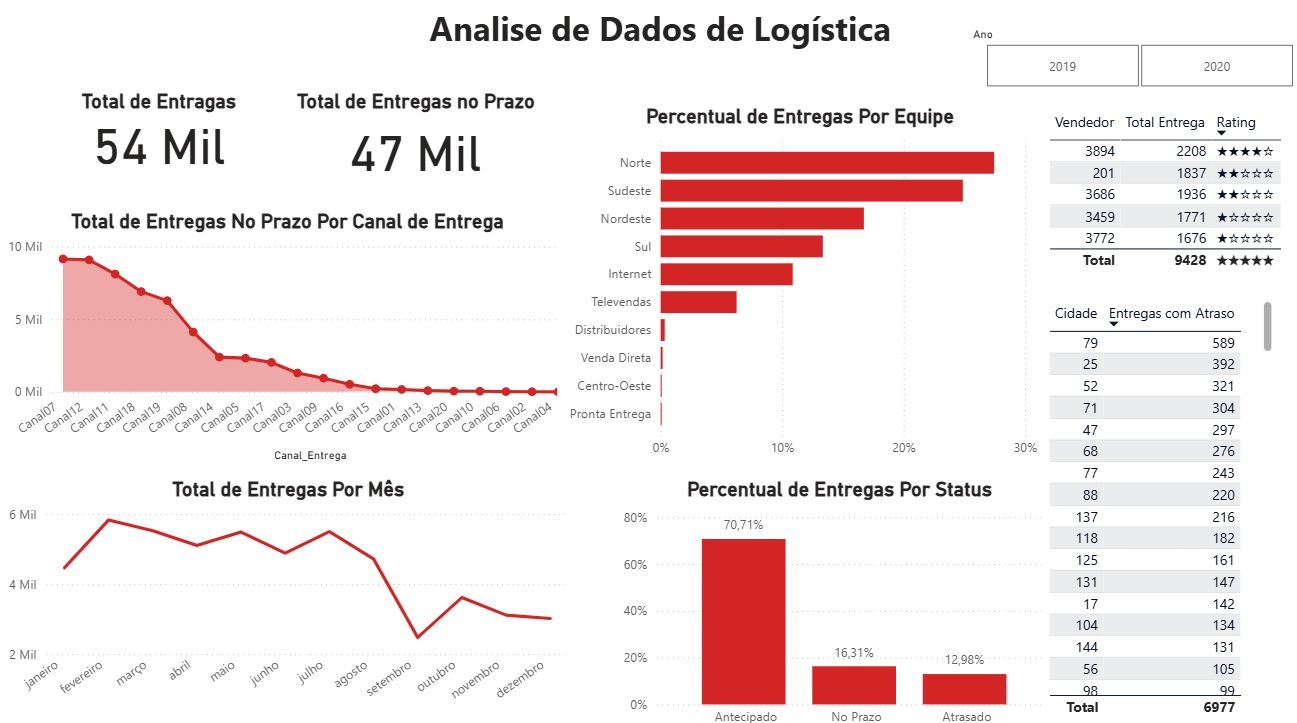

The dashboard page shown, as its layout file describes it:
{"tool":"powerbi","page":{"name":"Dashboard","canvas":[1280,720],"ordinal":0},"visuals":[{"type":"areaChart","title":"Total de Entregas No Prazo Por Canal de Entrega","fields":{"Category":["Logistica.Canal_Entrega"],"Y":["Logistica.TotalEntregas"]},"box":[9.3,211.8,552.9,247.7],"z":0},{"type":"clusteredBarChart","title":"Percentual de Entregas Por Equipe","fields":{"Category":["Logistica.Equipe_Entrega"],"Y":["Logistica.TotalEntregas"]},"box":[546.7,110.6,468.8,348.9],"z":1000},{"type":"lineChart","title":"Total de Entregas Por Mês","fields":{"Category":["Logistica.Data_Entrega_Realizada.Variation.Hierarquia de datas.Mês"],"Y":["Logistica.TotalEntregas"]},"box":[12.5,470.4,549.8,236.7],"z":2000},{"type":"tableEx","title":"Total de Entregas de Produtos dos Top 5 Vendedores","fields":{"Values":["Logistica.ID_Vendedor","CountNonNull(Logistica.Status_Entrega)","Logistica.Classificação por estrelas TotalEntregas"]},"box":[1015.5,110.6,264.8,165.1],"z":3000},{"type":"textbox","box":[12,9.6,1268,56.3],"z":4000},{"type":"card","title":"Total de Entragas","fields":{"Values":["Logistica.TotalEntregas"]},"box":[59,96.1,205.8,76.8],"z":5000},{"type":"card","title":"Total de Entregas no Prazo","fields":{"Values":["Logistica.TotalEntregaNoPrazo"]},"box":[285.4,96.1,248.4,89.2],"z":6000},{"type":"slicer","fields":{"Values":["Logistica.Data_Pedido.Variation.Hierarquia de datas.Ano"]},"box":[934.5,31.2,345.8,68.5],"z":7000},{"type":"columnChart","title":"Percentual de Entregas Por Status","fields":{"Category":["Logistica.Status_Entrega"],"Y":["CountNonNull(Logistica.Status_Entrega)"]},"box":[605.9,470.4,426.8,249.2],"z":8000},{"type":"tableEx","title":"Total de Entregas com Atraso Por Cidade","fields":{"Values":["Logistica.ID_Cidade","Logistica.TotalEntregas"]},"box":[1015.5,295.9,225.8,411.2],"z":9000}]}

Visuals, with their boxes in screenshot pixels (x1, y1, x2, y2), scaled from the page's 1280x720 canvas onto the 1297x723 screenshot:
"Total de Entregas No Prazo Por Canal de Entrega" areaChart: region(9, 213, 570, 461)
"Percentual de Entregas Por Equipe" clusteredBarChart: region(554, 111, 1029, 461)
"Total de Entregas Por Mês" lineChart: region(13, 472, 570, 710)
"Total de Entregas de Produtos dos Top 5 Vendedores" tableEx: region(1029, 111, 1296, 277)
textbox: region(12, 10, 1296, 66)
"Total de Entragas" card: region(60, 97, 268, 174)
"Total de Entregas no Prazo" card: region(289, 97, 541, 186)
slicer - Logistica.Data_Pedido.Variation.Hierarquia de datas.Ano: region(947, 31, 1296, 100)
"Percentual de Entregas Por Status" columnChart: region(614, 472, 1046, 722)
"Total de Entregas com Atraso Por Cidade" tableEx: region(1029, 297, 1258, 710)
